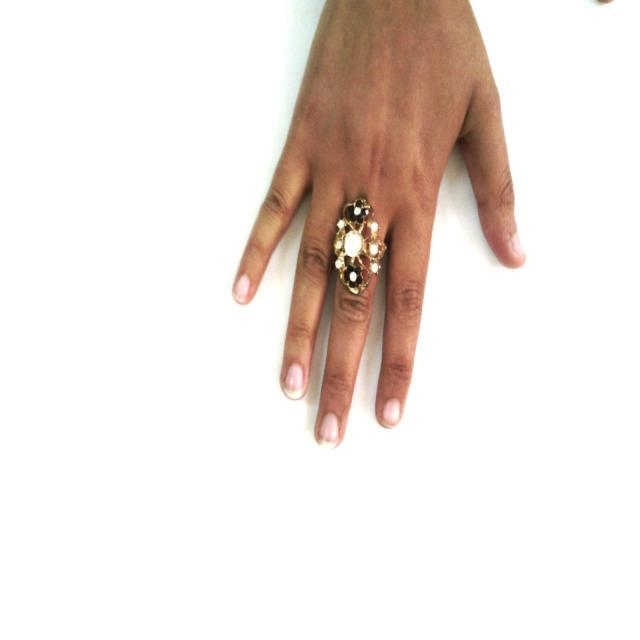Fingernail: (318, 413, 340, 450), (284, 363, 304, 399), (383, 397, 400, 427), (235, 276, 250, 302), (510, 235, 524, 258)
